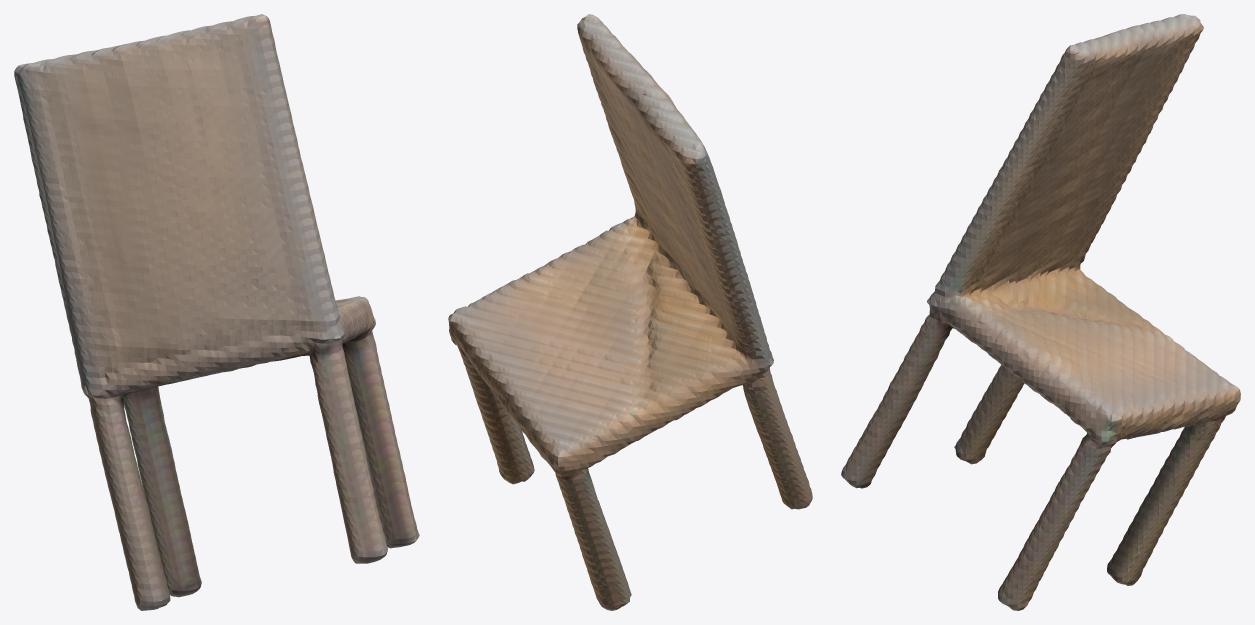
The picture shows the model from 3 angles, left to right: view 1: azimuth 30°, elevation 25°; view 2: azimuth 150°, elevation 25°; view 3: azimuth 270°, elevation 25°; orthographic projection. The views are drawn at different scales.
Visible parts, largest first — view 1: geometry_0; view 2: geometry_0; view 3: geometry_0.
Boxes of the visible parts, left/top/right/bottom form: geometry_0: left=14, top=14, right=419, bottom=610; geometry_0: left=448, top=14, right=812, bottom=610; geometry_0: left=841, top=14, right=1240, bottom=610.
Bounding box in the file's own units: 0.6047 × 1.08 × 0.6986.
1 material, 1 textured.
